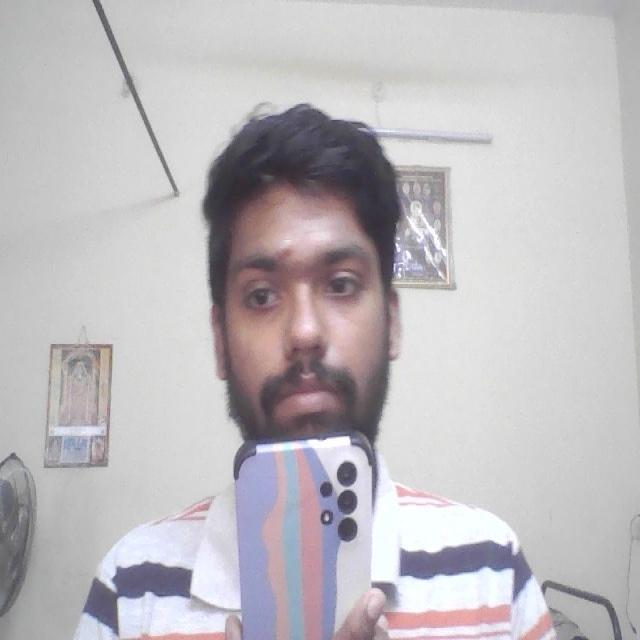Mobile: (229, 425, 380, 640)
